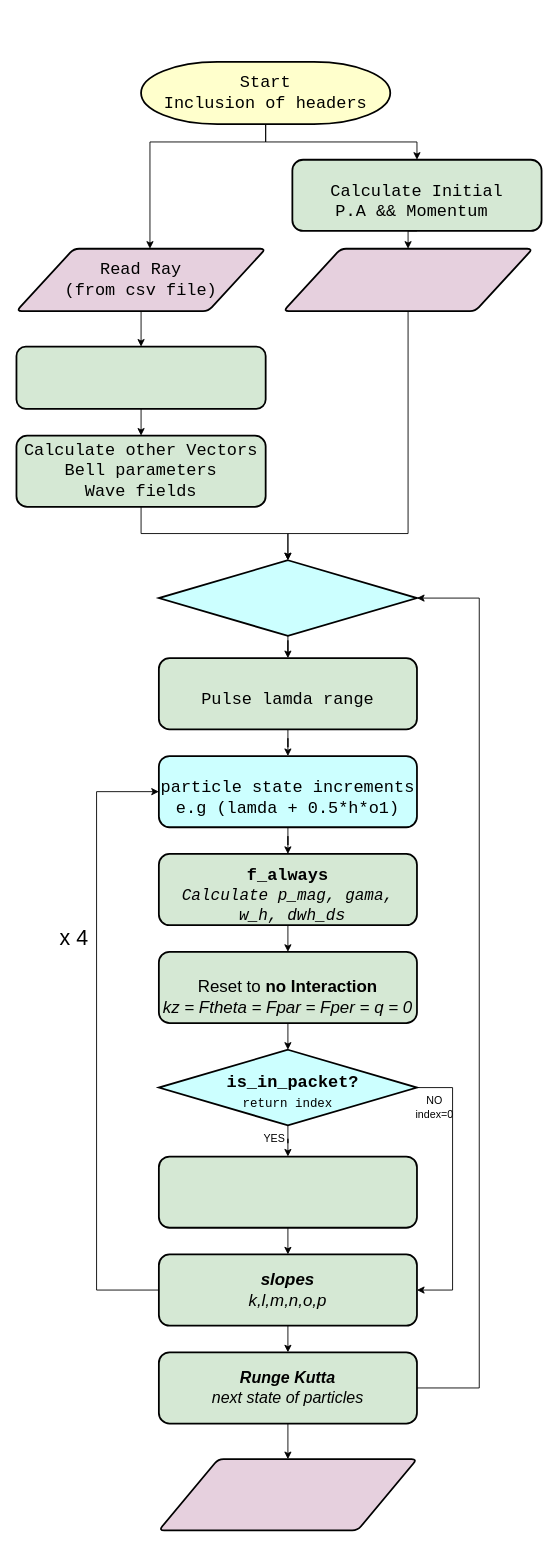
Some shapes in this 557 by 1547 pixel diagram are drawn without their labels. Each missing label, with the centre of its shape:
"Read Particles" (initial states): (407,279)
f_packet Calculate beta,kz,kappa_su Bw_su,Ftheta,Fpar,Fper,q: (287,1191)
HDF5 output: (287,1494)
Interpolate (on simulation timestep): (140,377)
WPI for Nsteps: (287,597)
